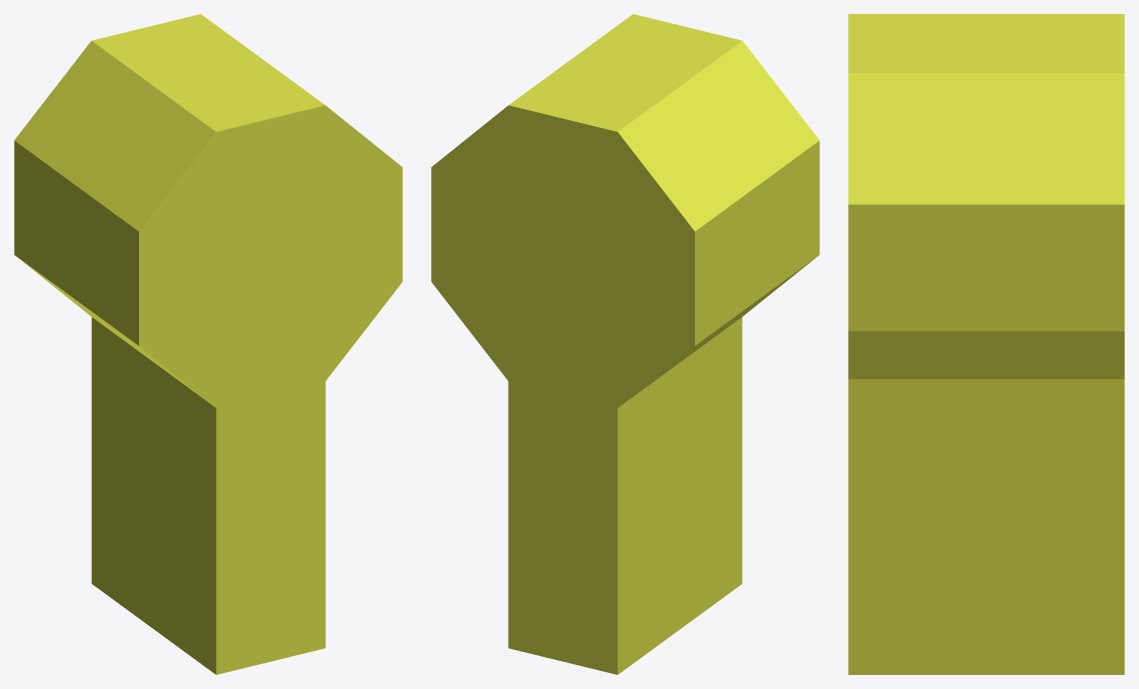
The model's file is fridge switch.fbx.
3 renders of one model, left to right at view 1: azimuth 30°, elevation 25°; view 2: azimuth 150°, elevation 25°; view 3: azimuth 270°, elevation 25°, orthographic. The views are drawn at different scales.
Visible parts, largest first — view 1: fridge_switch; view 2: fridge_switch; view 3: fridge_switch.
Part boxes in pixels (left/top/right/bottom): fridge_switch: left=14, top=14, right=402, bottom=674; fridge_switch: left=431, top=14, right=819, bottom=674; fridge_switch: left=848, top=14, right=1124, bottom=674.
Size of the model in its own units: 8.72 by 17.15 by 7.14.
1 material, 1 textured.
